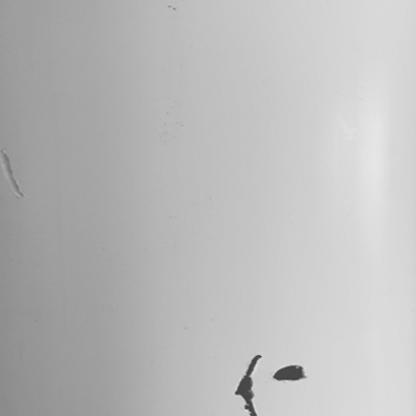kongdong: (234, 354, 265, 416), (272, 365, 309, 382)
sunshang: (1, 153, 27, 200)
